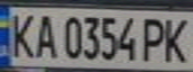0: (60, 12, 81, 61)
3: (78, 12, 103, 61)
4: (115, 14, 142, 62)
5: (100, 14, 121, 62)
A: (30, 10, 60, 60)
K: (3, 10, 39, 61), (160, 15, 193, 64)
P: (139, 14, 172, 63)
